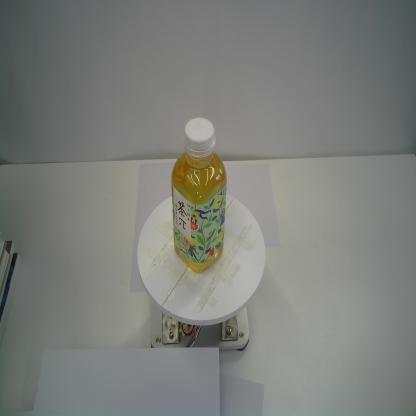Drink: (170, 116, 228, 276)
